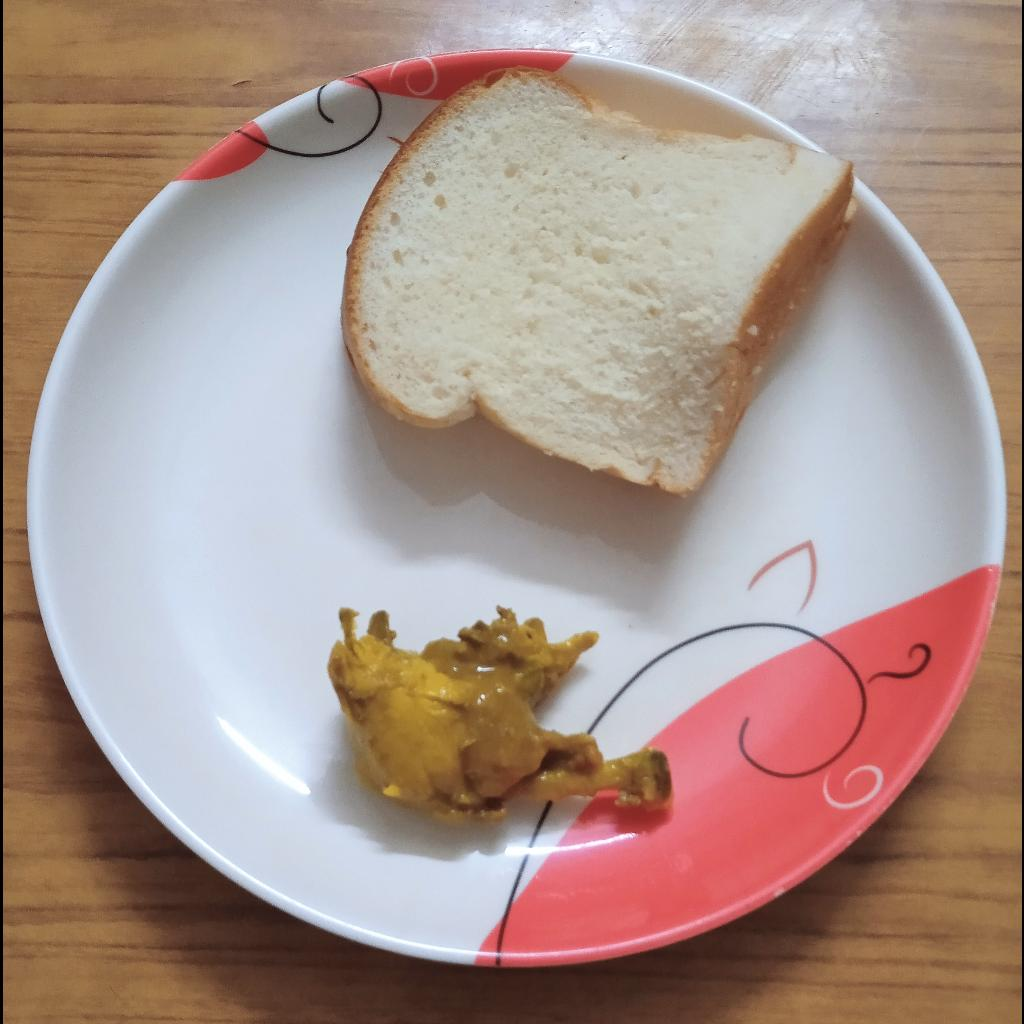bread: (340, 65, 859, 496)
chicken: (325, 603, 674, 825)
